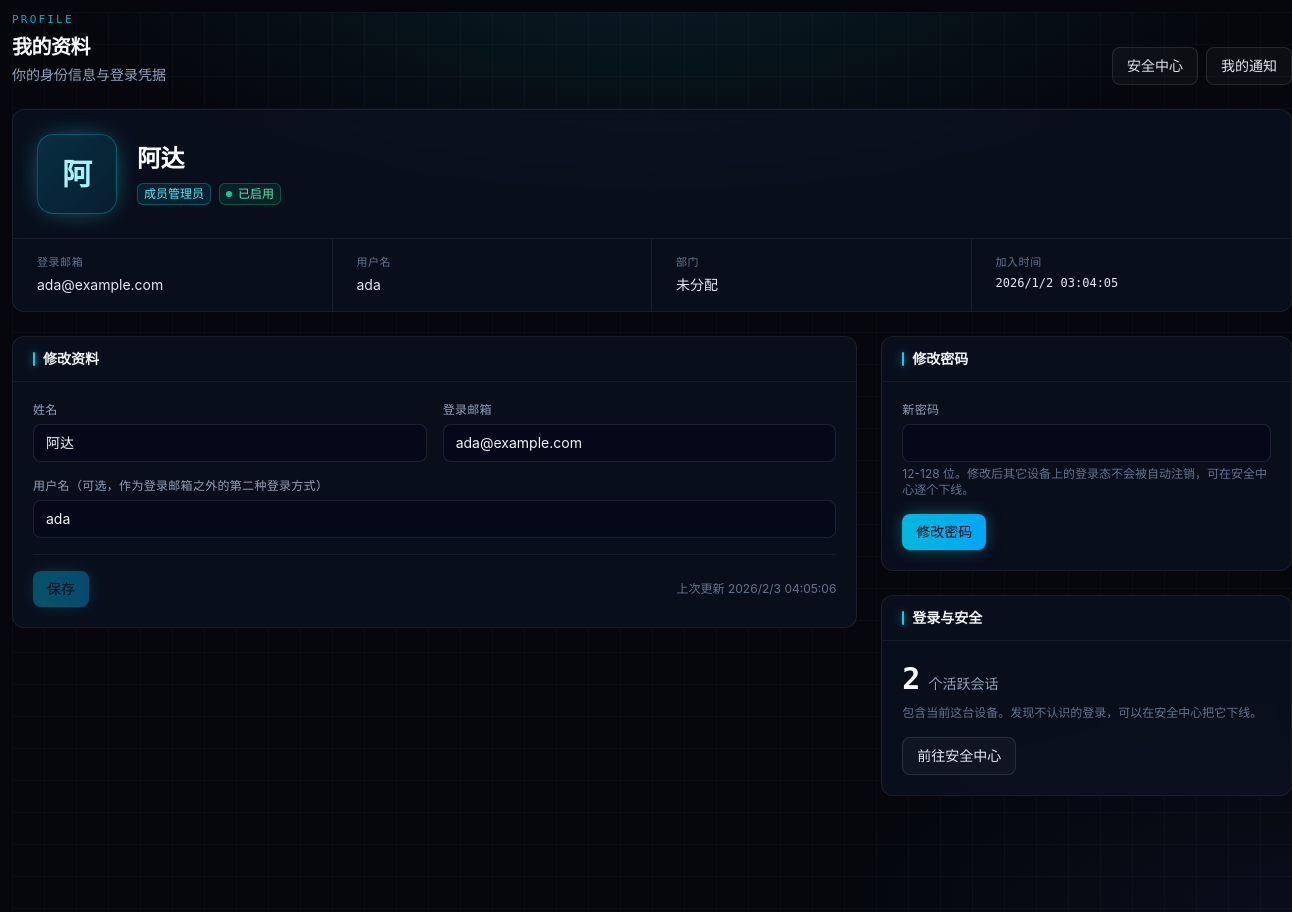
it: ProfilePage › refuses to clear an existing username
The width and height of the screenshot is (1292, 912).
Clear the field showing "ada" at (435, 519), box [33,500,836,538]
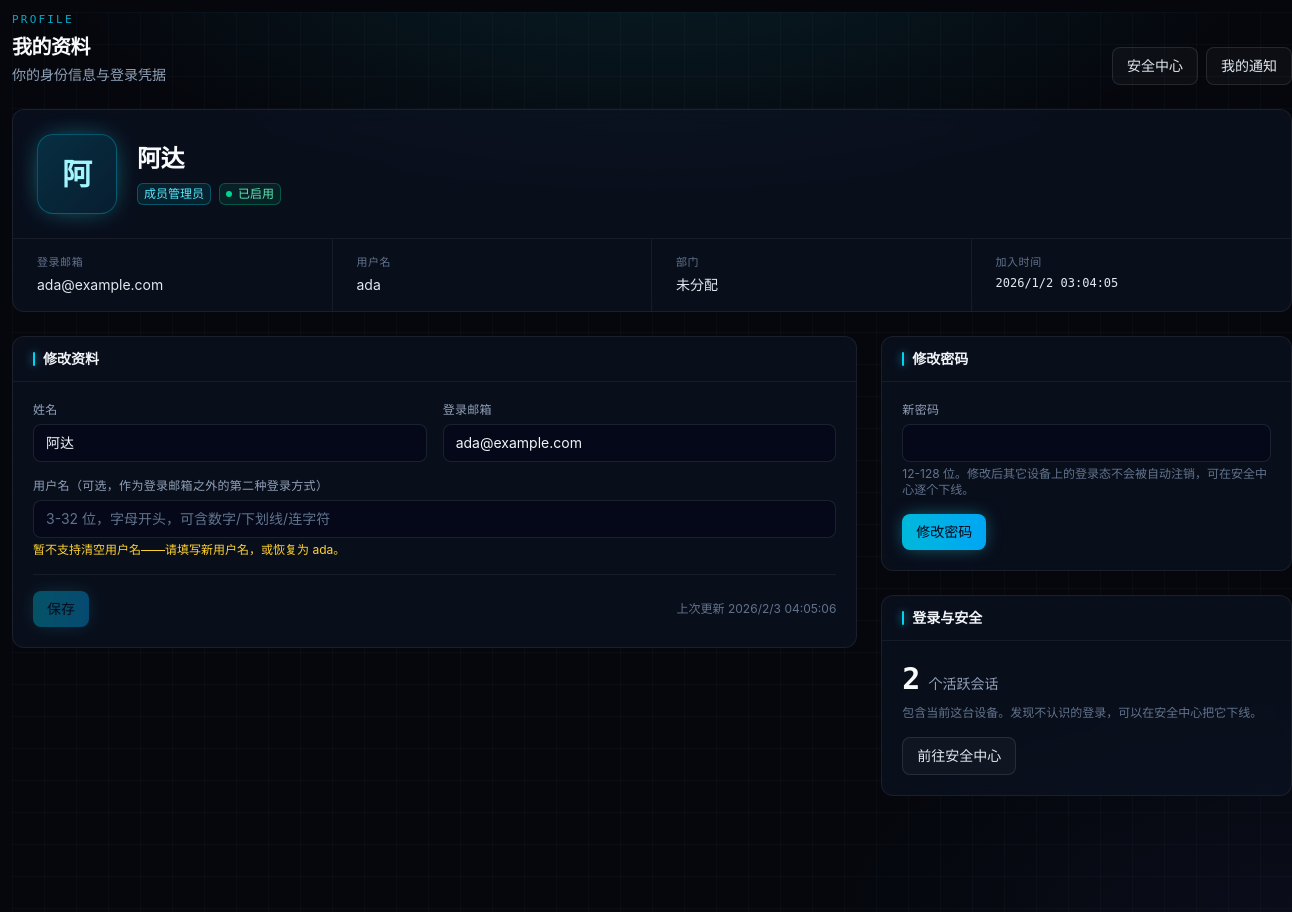
Expected: the button "保存" is disabled, [33,591,89,627]
Expected: the text "暂不支持清空用户名——请填写新用户名，或恢复为 ada。" is shown, [33,542,345,557]
